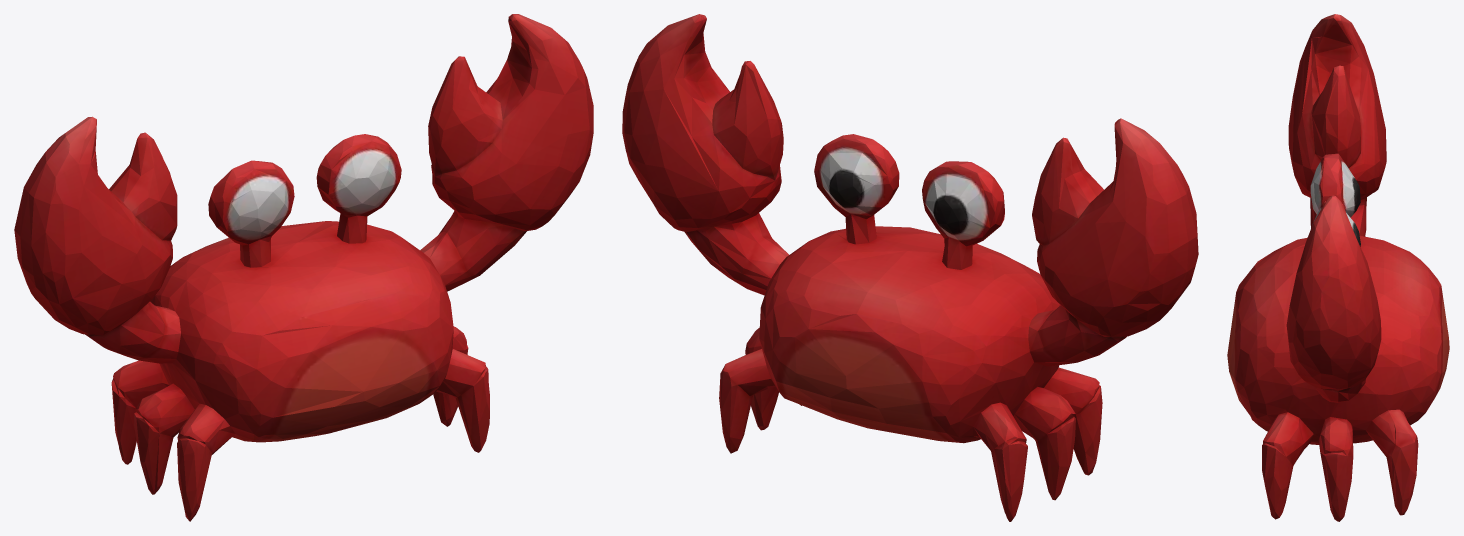
Rendered from crab.glb.
The picture shows the model from 3 angles, left to right: view 1: azimuth 30°, elevation 25°; view 2: azimuth 150°, elevation 25°; view 3: azimuth 270°, elevation 25°; orthographic projection. The views are drawn at different scales.
Visible parts, largest first — view 1: geometry_0; view 2: geometry_0; view 3: geometry_0.
Boxes of the visible parts, x1,y1,x2,y2 form: geometry_0: (14, 14, 593, 521); geometry_0: (622, 14, 1198, 521); geometry_0: (1227, 14, 1449, 521).
Bounding box in the file's own units: 0.9991 × 0.6753 × 0.3853.
1 material, 1 textured.
